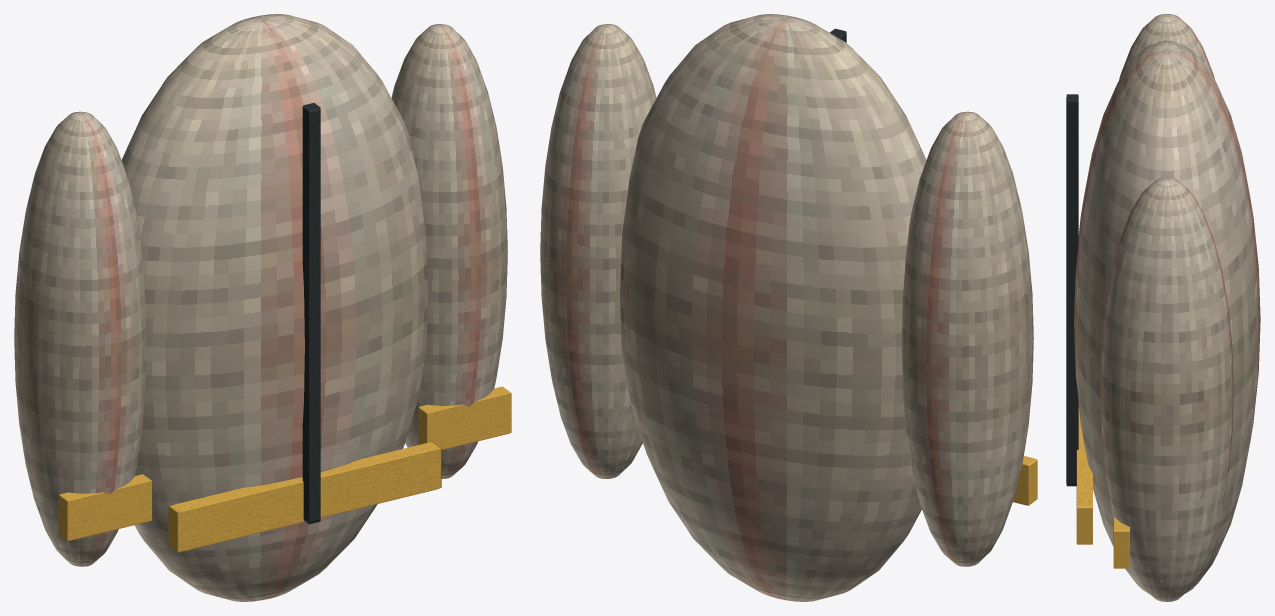
The model's file is coat.glb.
The picture shows the model from 3 angles, left to right: view 1: azimuth 30°, elevation 25°; view 2: azimuth 150°, elevation 25°; view 3: azimuth 270°, elevation 25°; orthographic projection. The views are drawn at different scales.
Parts seen in each view (by area): view 1: garment, sleeve (×2), hem-stripe, reflector (×2), zip; view 2: garment, sleeve (×2), reflector; view 3: sleeve (×2), garment, zip, hem-stripe, reflector.
Boxes of the visible parts, x1,y1,x2,y2 form: garment: (121,14,428,601); sleeve (×2): (14,24,507,566); hem-stripe: (168,442,441,552); reflector (×2): (58,386,511,540); zip: (302,103,320,524); garment: (620,14,926,601); sleeve (×2): (540,24,1033,566); reflector: (1013,456,1037,505); sleeve (×2): (1100,14,1233,601); garment: (1074,40,1260,593); zip: (1066,94,1078,486); hem-stripe: (1076,405,1092,544); reflector: (1113,515,1129,568).
Bounding box in the file's own units: 0.67 × 0.782 × 0.2551.
Materials: 3 (3 with a texture image).
